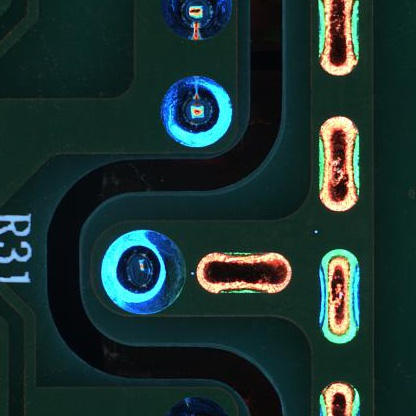spot: (99, 223, 190, 317), (150, 68, 240, 156)
